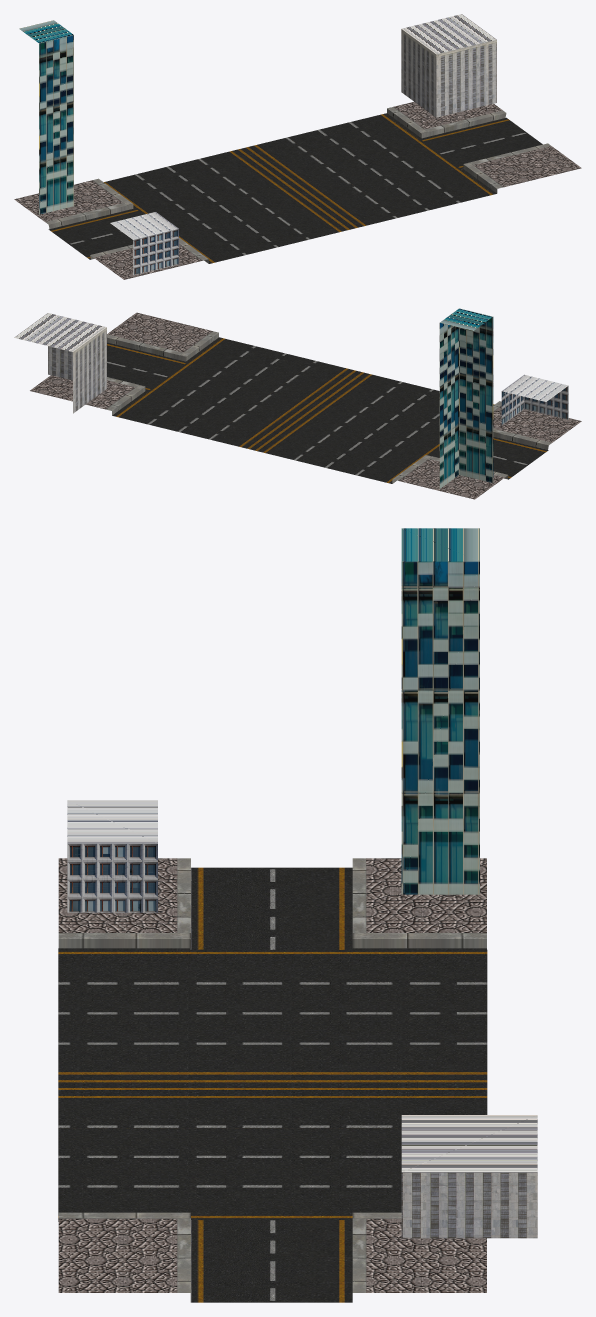
The model's file is CityBlock0.obj.
3 renders of one model, top to bottom at view 1: azimuth 30°, elevation 25°; view 2: azimuth 150°, elevation 25°; view 3: azimuth 270°, elevation 25°, orthographic. The views are drawn at different scales.
Parts seen in each view (by area): view 1: Floor, Left, Right; view 2: Floor, Left, Right; view 3: Floor, Left, Right.
Boxes of the visible parts, left/top/right/bottom form: Floor: left=14, top=102, right=581, bottom=279; Left: left=19, top=20, right=178, bottom=275; Right: left=401, top=14, right=496, bottom=117; Floor: left=30, top=312, right=581, bottom=499; Left: left=439, top=308, right=568, bottom=488; Right: left=14, top=313, right=106, bottom=413; Floor: left=58, top=858, right=487, bottom=1302; Left: left=67, top=528, right=479, bottom=912; Right: left=401, top=1115, right=537, bottom=1238.
Size of the model in its own units: 48.3 by 17.62 by 22.35.
